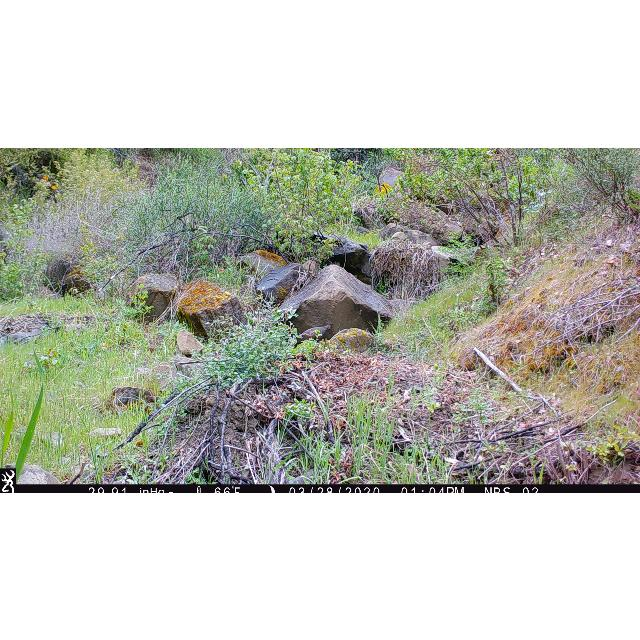animals: (294, 322, 334, 342)
